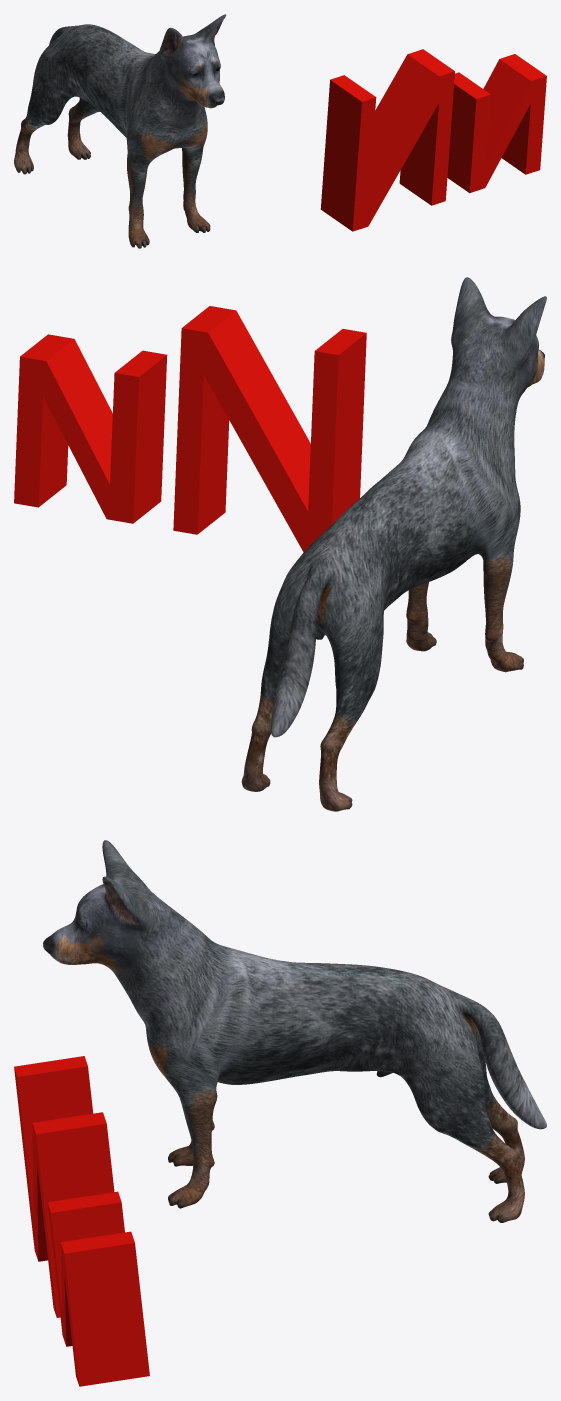
3 renders of one model, top to bottom at view 1: azimuth 30°, elevation 25°; view 2: azimuth 150°, elevation 25°; view 3: azimuth 270°, elevation 25°, orthographic. The views are drawn at different scales.
Visible parts, largest first — view 1: Mesh_0.011, 13463_Australian_Cattle_Dog_v3; view 2: 13463_Australian_Cattle_Dog_v3, Mesh_0.011; view 3: 13463_Australian_Cattle_Dog_v3, Mesh_0.011.
Boxes of the visible parts, x1,y1,x2,y2 form: Mesh_0.011: (320,49,546,231); 13463_Australian_Cattle_Dog_v3: (14,14,226,248); 13463_Australian_Cattle_Dog_v3: (241,277,546,811); Mesh_0.011: (14,306,366,552); 13463_Australian_Cattle_Dog_v3: (43,840,546,1222); Mesh_0.011: (14,1056,149,1386).
Bounding box in the file's own units: 44.38 × 28.28 × 40.04.
Materials: 2 (1 with a texture image).
